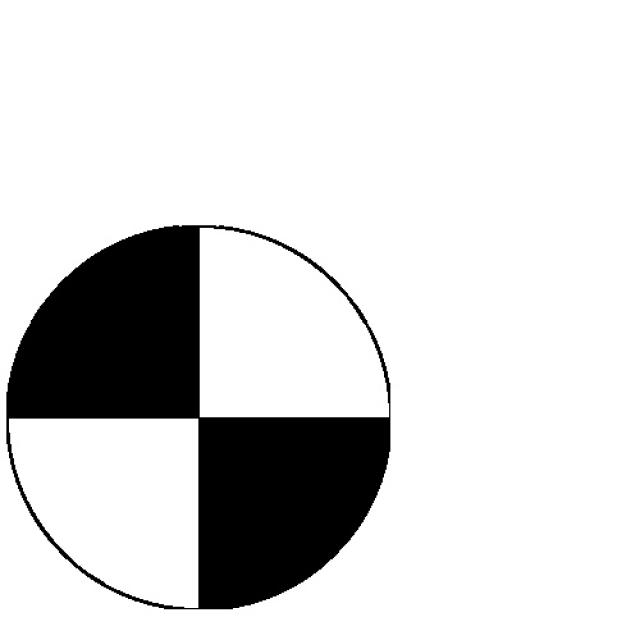Marcadores: (8, 226, 392, 608)
